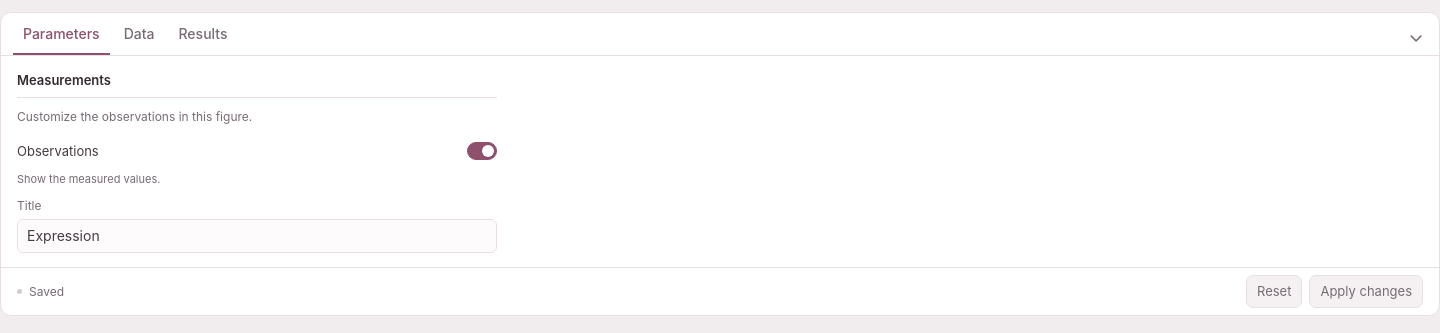
Test case: dynamic group descriptions and conditional fields remain associated with their controls
This screenshot has width=1440, height=333.
expect the text "Customize the observations in this figure." is shown: met, box [17, 109, 252, 124]
Click the checkbox labelled "Observations".
click(482, 151)  # box [467, 142, 497, 160]
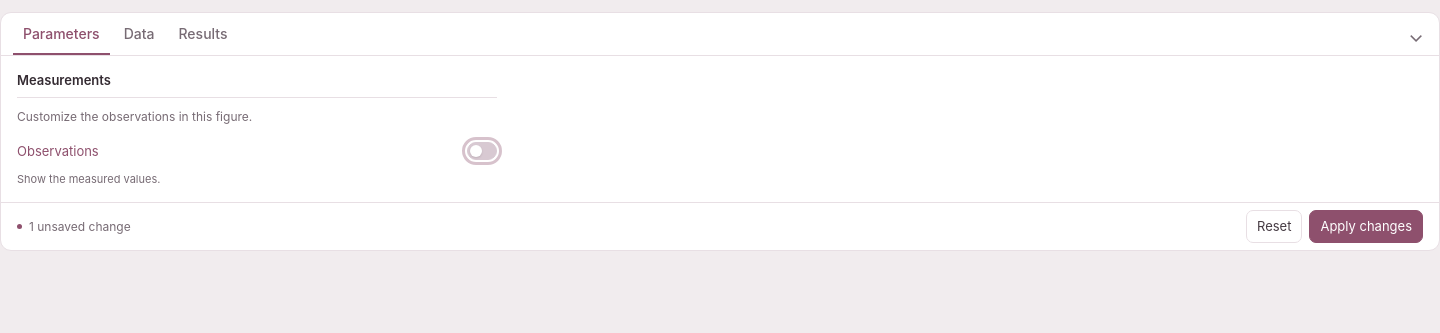
expect the element "Measurements" is shown: met, box [17, 70, 497, 188]
expect the text "Title" is gone: met
